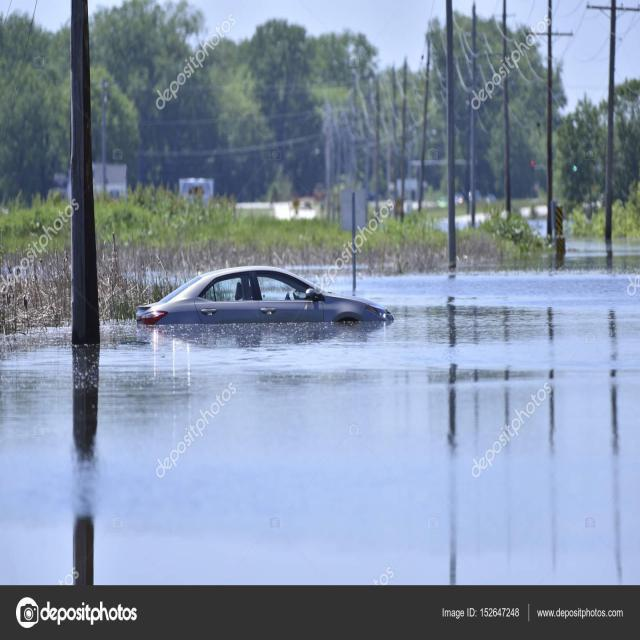water: (0, 239, 638, 588), (129, 270, 200, 287)
